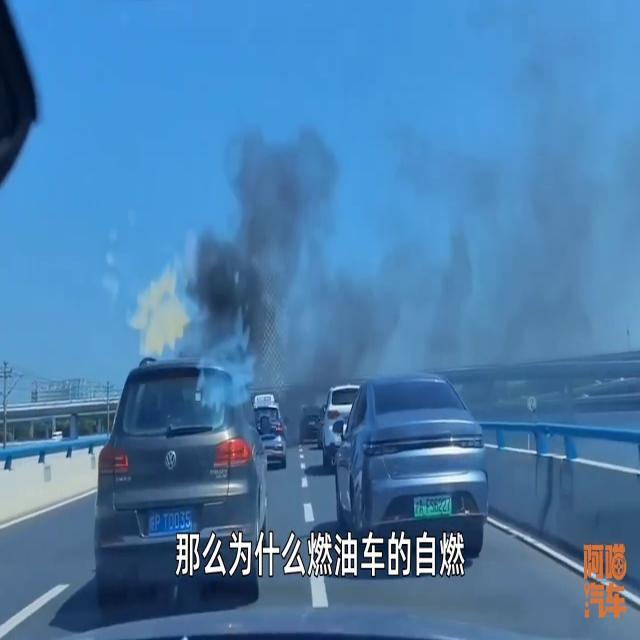Smoke: (178, 17, 640, 387), (126, 259, 194, 361)
